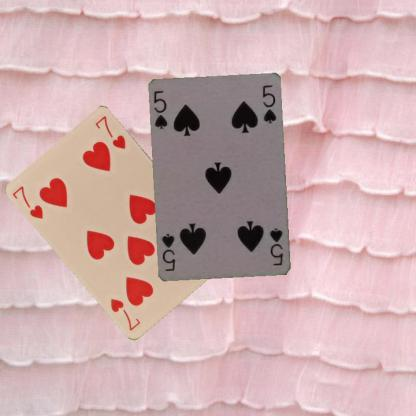5s: (152, 88, 170, 131), (268, 225, 284, 268)
7h: (10, 183, 45, 220)
